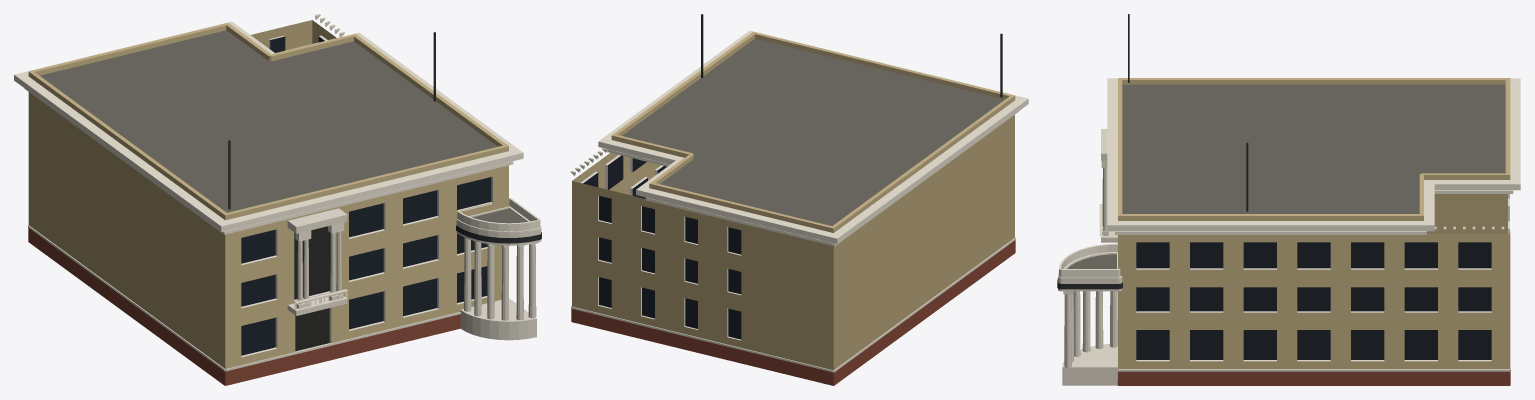
Rendered from albert-pike-consistory.glb.
The picture shows the model from 3 angles, left to right: view 1: azimuth 30°, elevation 25°; view 2: azimuth 150°, elevation 25°; view 3: azimuth 270°, elevation 25°; orthographic projection. The views are drawn at different scales.
Parts seen in each view (by area): view 1: albert_roof, albert_brick2, albert_brick, albert_trim, albert_glass, albert_stone, albert_base, albert_dark, albert_sash, albert_sign; view 2: albert_brick2, albert_roof, albert_brick, albert_trim, albert_base, albert_glass, albert_stone, albert_sash; view 3: albert_roof, albert_brick, albert_glass, albert_trim, albert_stone, albert_base, albert_brick2, albert_sash, albert_sign.
Boxes of the visible parts, x1,y1,x2,y2 form: albert_roof: [40, 30, 526, 223]; albert_brick2: [28, 20, 312, 368]; albert_brick: [28, 20, 508, 368]; albert_trim: [14, 21, 541, 311]; albert_glass: [241, 36, 491, 355]; albert_stone: [28, 208, 541, 371]; albert_base: [28, 228, 460, 385]; albert_dark: [294, 226, 330, 351]; albert_sash: [241, 35, 492, 357]; albert_sign: [456, 225, 541, 243]; albert_brick2: [572, 115, 1014, 370]; albert_roof: [622, 38, 1004, 225]; albert_brick: [572, 31, 1015, 232]; albert_trim: [598, 30, 1028, 246]; albert_base: [571, 240, 1015, 385]; albert_glass: [583, 155, 741, 339]; albert_stone: [571, 237, 1015, 372]; albert_sash: [580, 155, 741, 340]; albert_roof: [1067, 84, 1505, 268]; albert_brick: [1118, 78, 1510, 368]; albert_glass: [1136, 242, 1491, 359]; albert_trim: [1058, 78, 1520, 294]; albert_stone: [1058, 129, 1510, 385]; albert_base: [1117, 371, 1510, 385]; albert_brick2: [1427, 194, 1507, 233]; albert_sash: [1136, 194, 1509, 361]; albert_sign: [1057, 279, 1122, 289].
Size of the model in its own units: 32.3 by 24.4 by 43.06.
